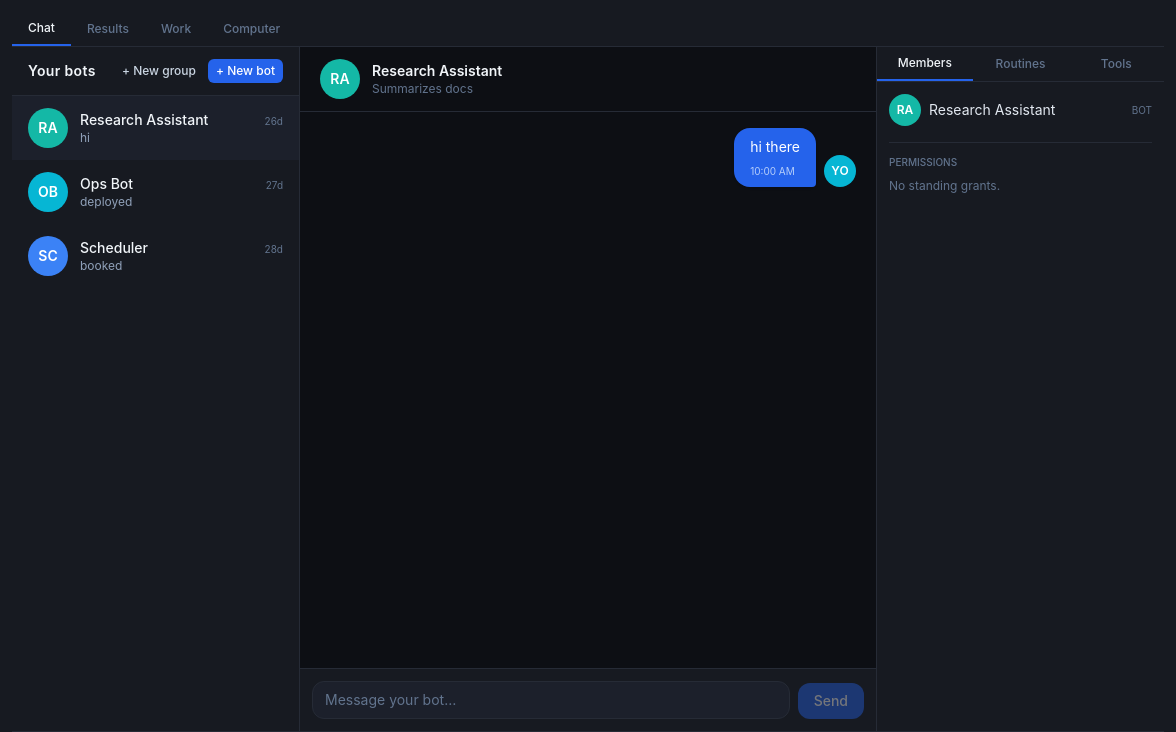
Test: ChatPage › multi-thread fixture (spec §2.7) › pending state is per thread: a bot frame on B while A is active neither clears nor sets A's pending
Expected: the text "hi there" is shown, [750,136,800,159]
# Switch to B before A ever sends anything — A has no pending state.
Click the option "OB Ops Bot 27d deployed".
click(48, 192)  # box [12,160,299,224]
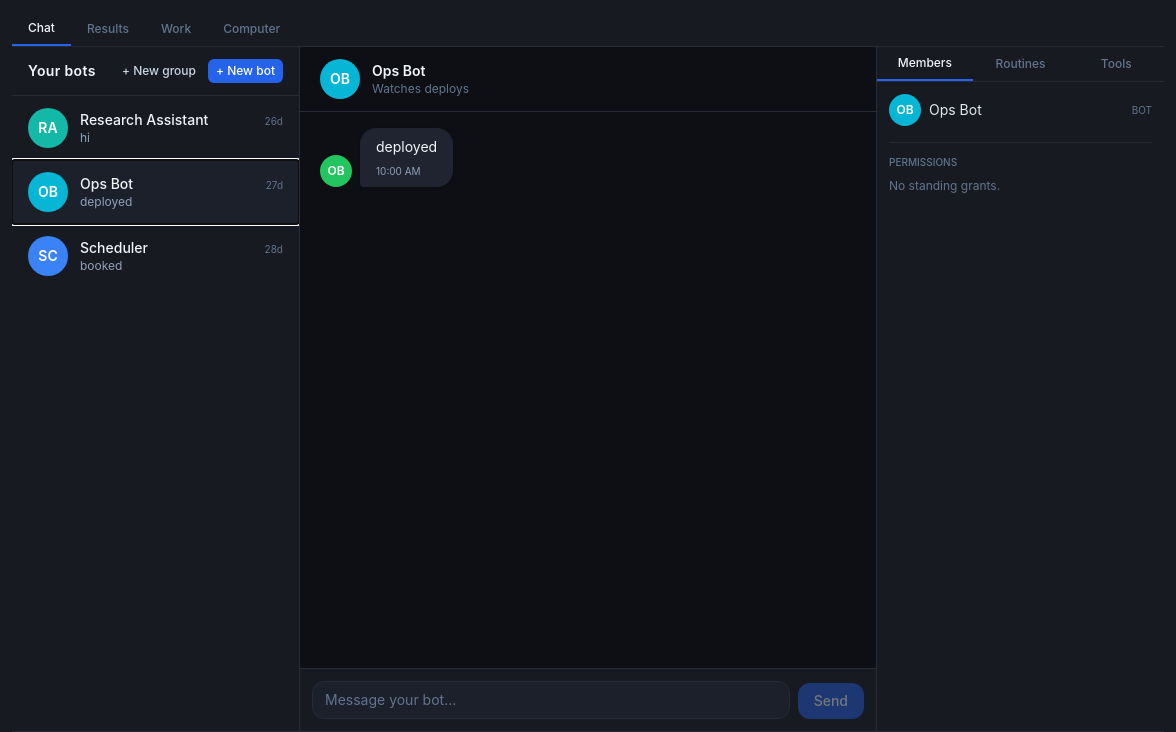
Expected: the text "deployed" below "Your bots" is shown, [80,194,132,209]
Expected: the element named "Conversation with Ops Bot" is shown, [300,47,876,668]
